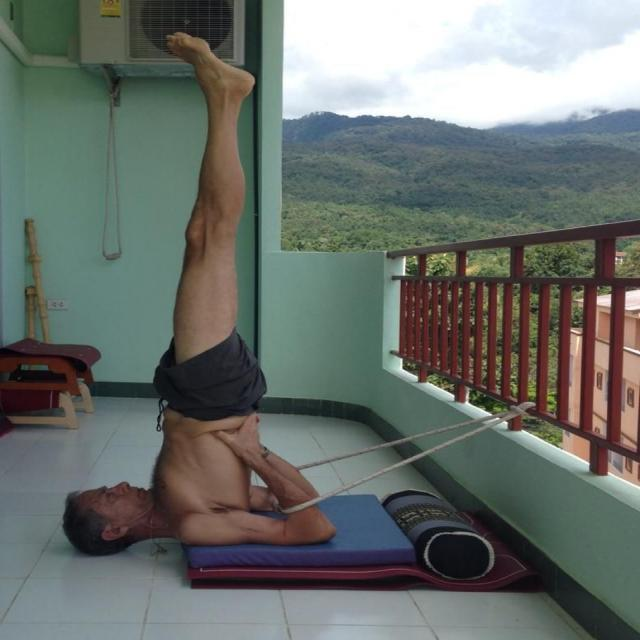yoga-pose shoulderstand: (56, 35, 342, 556)
